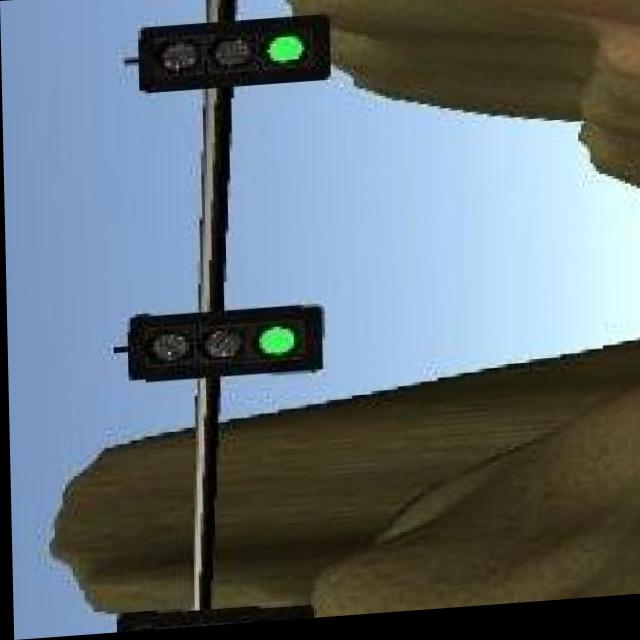green light: (120, 307, 327, 387), (138, 18, 333, 95)
